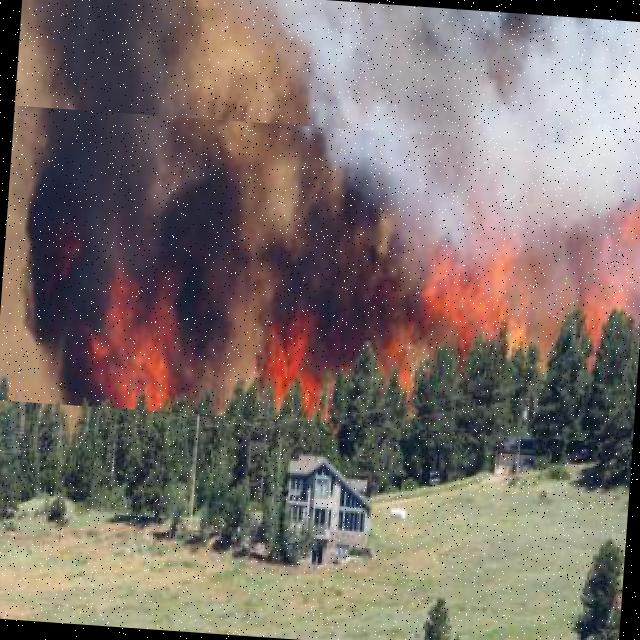fire: (0, 105, 640, 444)
